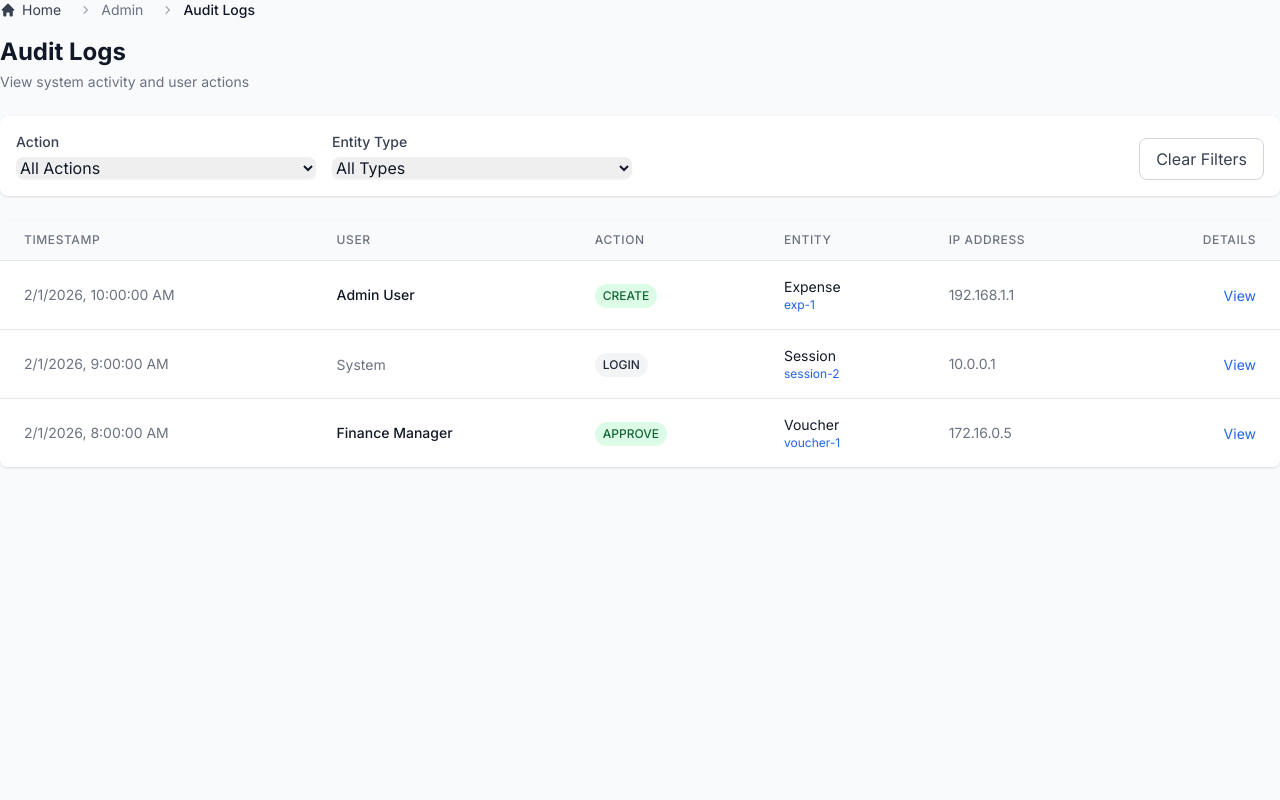
AuditLogsPage › Detail Modal › displays old and new values for update logs
The width and height of the screenshot is (1280, 800).
Click the button "View" in the row of "2/1/2026, 8:00:00 AM". click: [1240, 434]
box: [1224, 424, 1256, 444]
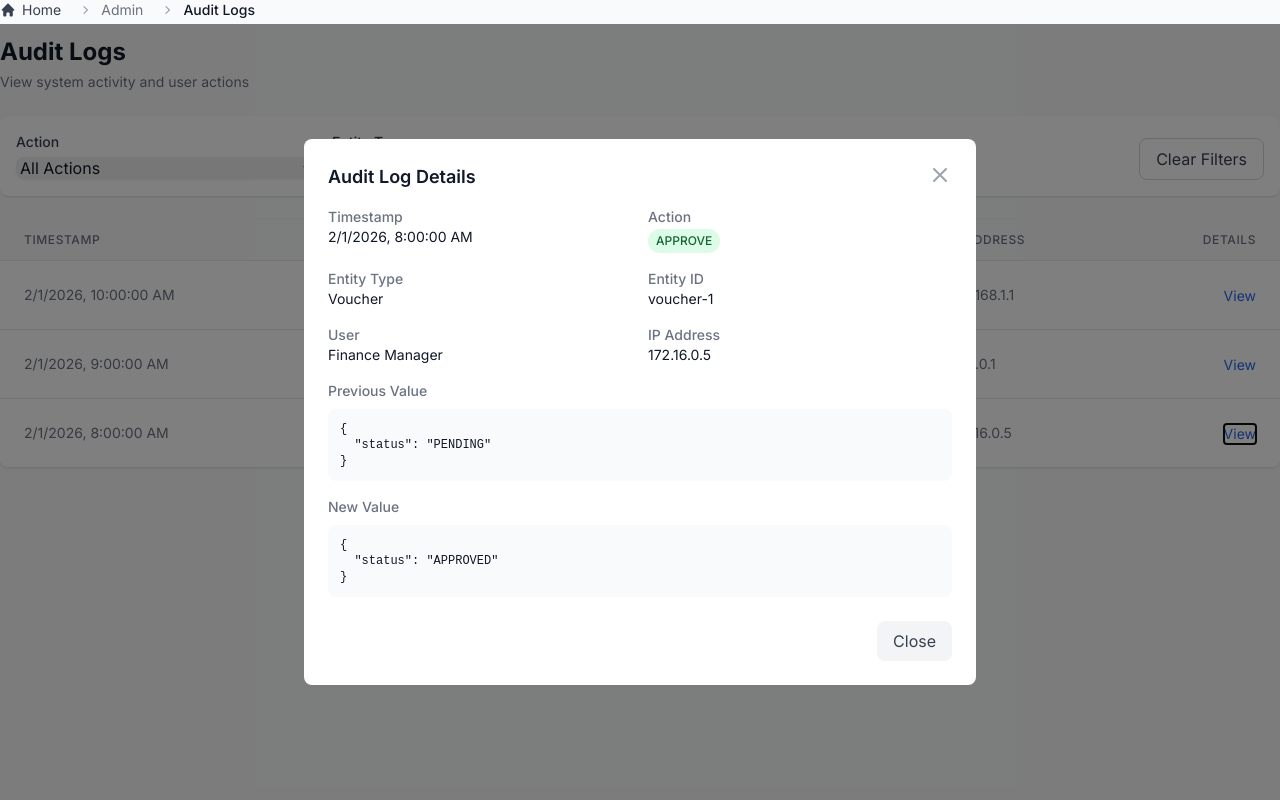
Expected: the text "Previous Value" is shown, [328, 382, 427, 399]
Expected: the text "New Value" is shown, [328, 498, 399, 515]
